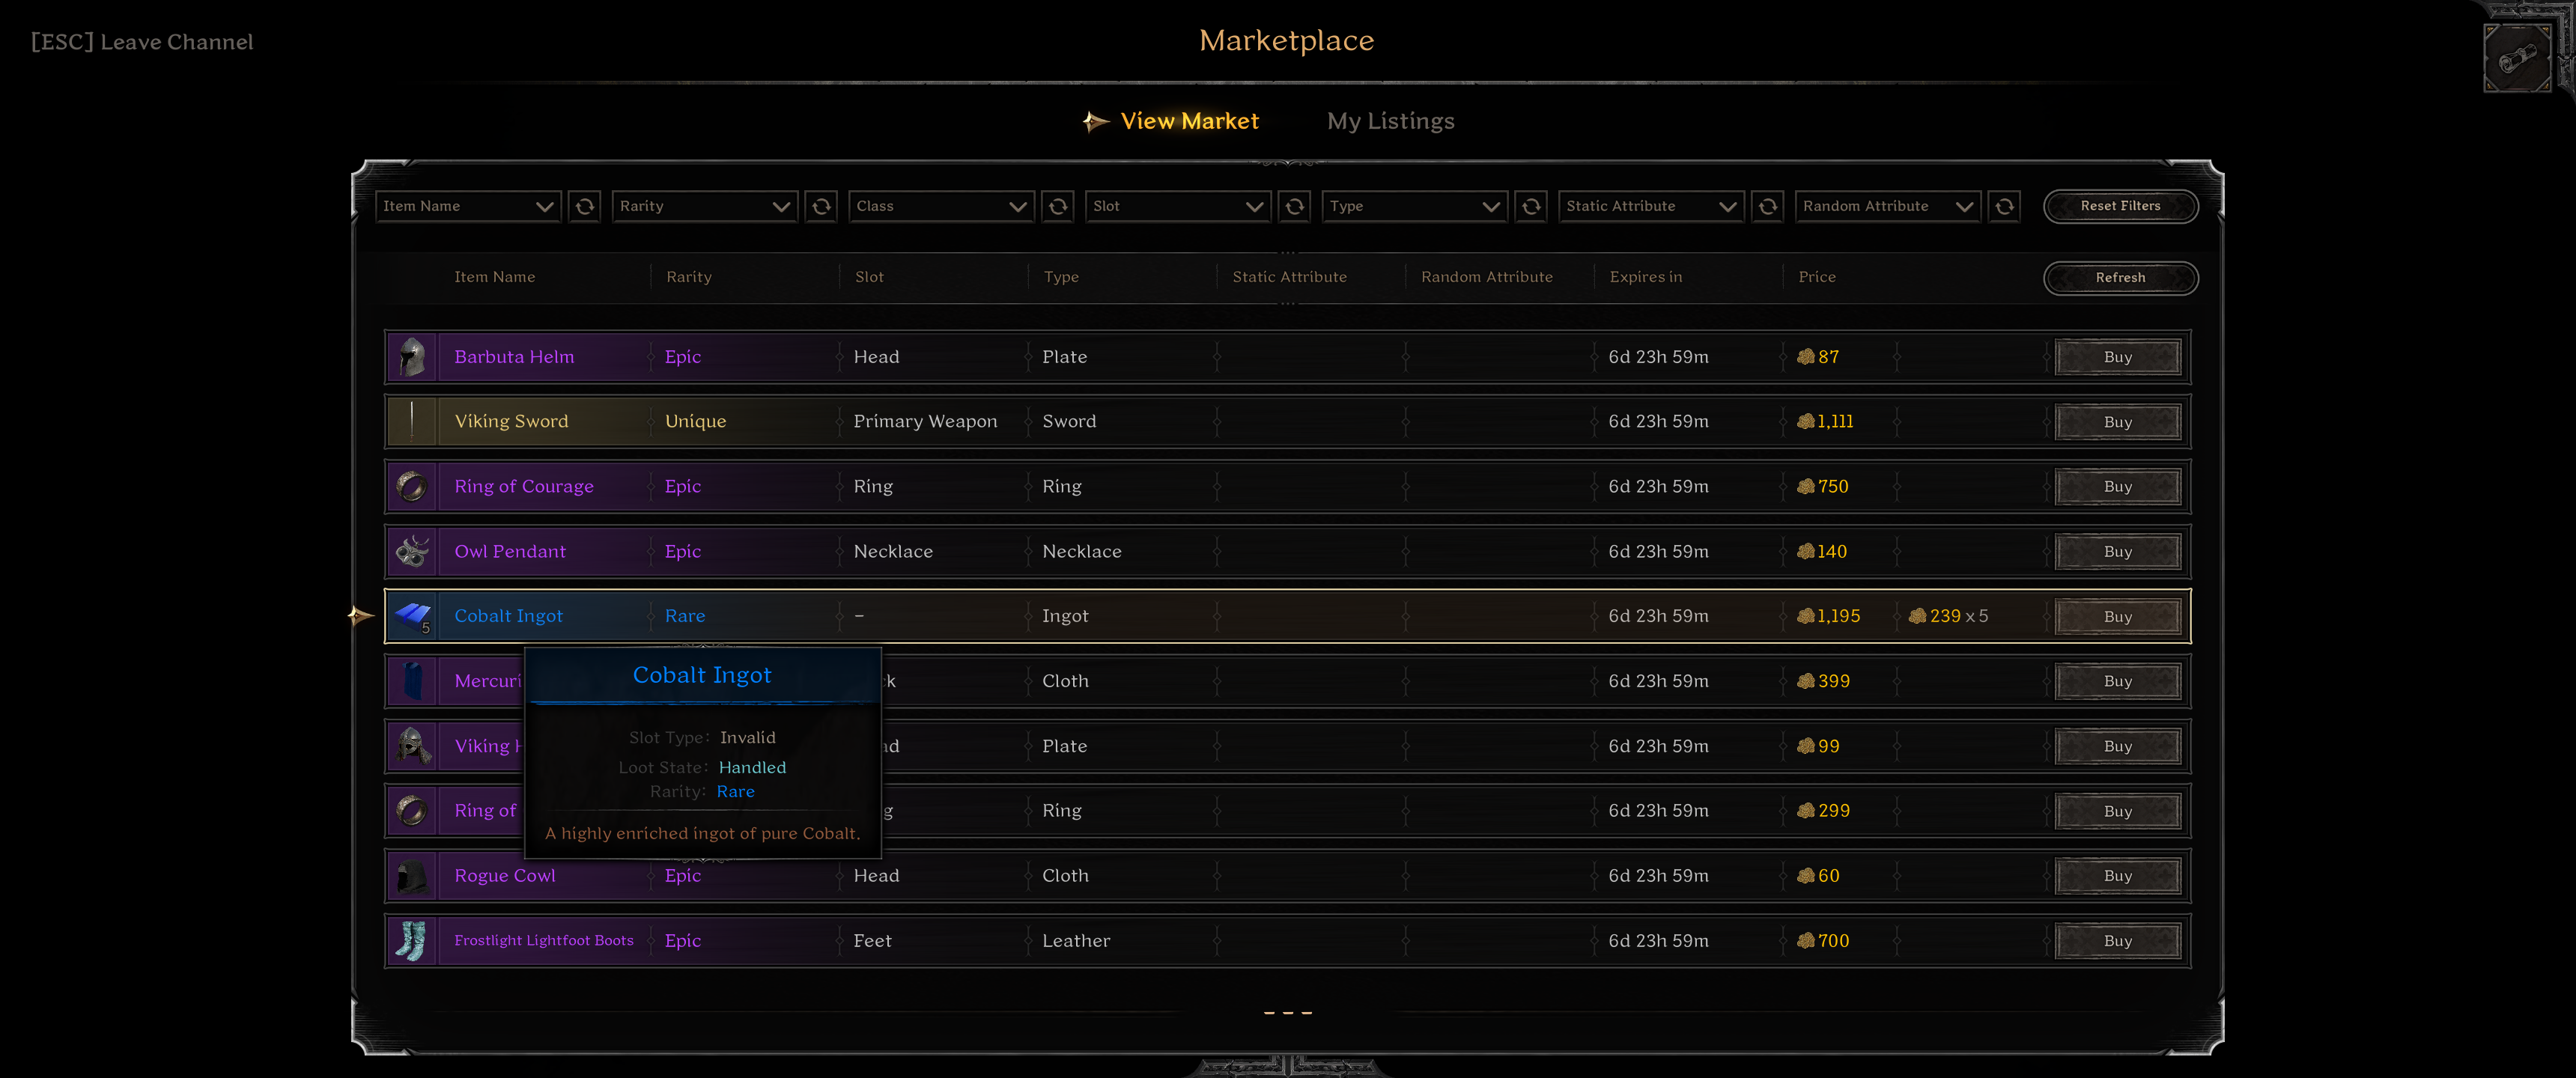Tooltip: (522, 646, 882, 861)
